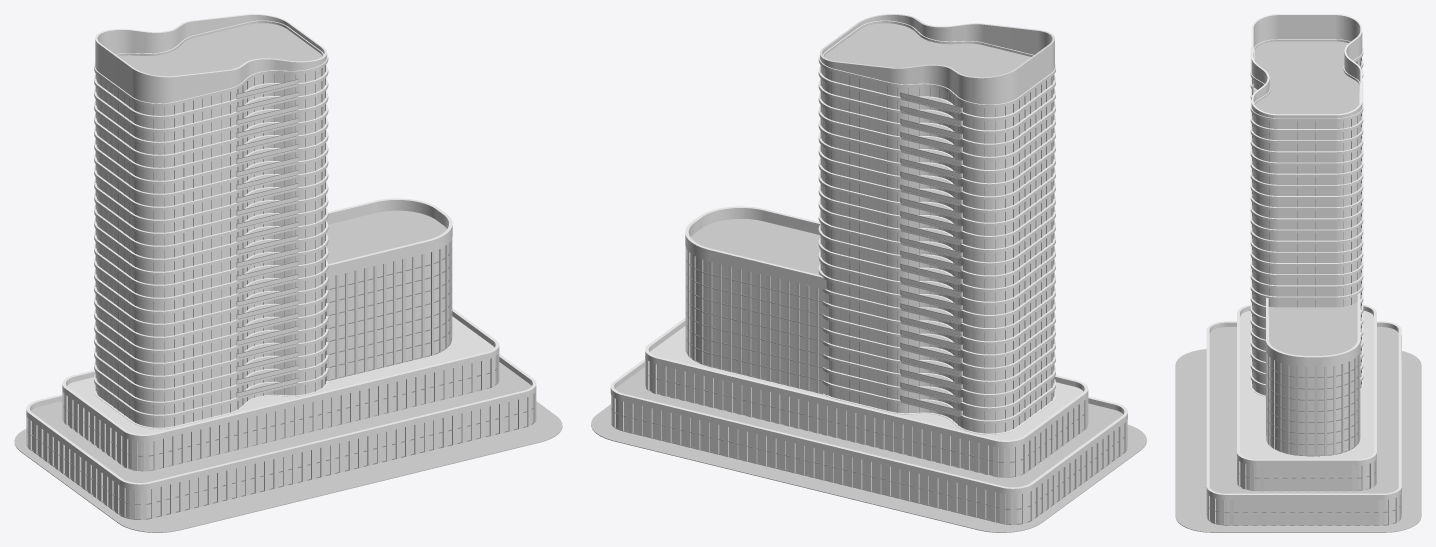
File: building.glb
The picture shows the model from 3 angles, left to right: view 1: azimuth 30°, elevation 25°; view 2: azimuth 150°, elevation 25°; view 3: azimuth 270°, elevation 25°; orthographic projection. The views are drawn at different scales.
Visible parts, largest first — view 1: glass.003_9, panels_14, wall.007_26, base_2, wall.006_25, glass.004_10, top_20, profile.001_15, balcony.001_0, glass.006_12, floor.003_6, wall.005_24 (+11 smaller); view 2: glass.003_9, panels_14, wall.007_26, glass.004_10, wall.006_25, top_20, profile.001_15, base_2, balcony.001_0, wall.005_24, glass.006_12, floor_3 (+11 smaller); view 3: glass.003_9, base_2, panels_14, floor.003_6, floor_3, glass.004_10, roof_19, top_20, wall.005_24, floor.001_4, wall.007_26, top.003_23 (+7 smaller).
Part boxes in pixels (x1,y1,x2,y2): glass.003_9: (96,66,325,427); panels_14: (94,20,328,428); wall.007_26: (26,391,536,520); base_2: (14,401,562,532); wall.006_25: (62,352,499,471); glass.004_10: (329,243,449,379); top_20: (95,14,326,103); profile.001_15: (95,65,325,427); balcony.001_0: (236,79,297,396); glass.006_12: (32,395,533,519); floor.003_6: (31,362,531,482); wall.005_24: (326,238,452,381); glass.003_9: (821,66,1053,433); panels_14: (818,20,1055,434); wall.007_26: (611,395,1127,525); glass.004_10: (687,250,825,393); wall.006_25: (645,355,1088,477); top_20: (820,14,1054,104); profile.001_15: (820,65,1054,433); base_2: (591,404,1146,532); balcony.001_0: (900,93,962,414); wall.005_24: (685,247,828,395); glass.006_12: (616,399,1123,523); floor_3: (824,23,1031,77); glass.003_9: (1252,59,1360,395); base_2: (1175,349,1421,532); panels_14: (1250,39,1363,396); floor.003_6: (1209,327,1398,493); floor_3: (1254,41,1359,114); glass.004_10: (1267,355,1357,455); roof_19: (1240,310,1373,459); top_20: (1251,14,1362,118); wall.005_24: (1266,352,1360,456); floor.001_4: (1268,302,1357,355); wall.007_26: (1206,335,1401,525); top.003_23: (1206,321,1401,499).
Bounding box in the file's own units: 116 × 105 × 65.93.
6 materials, 1 textured.
